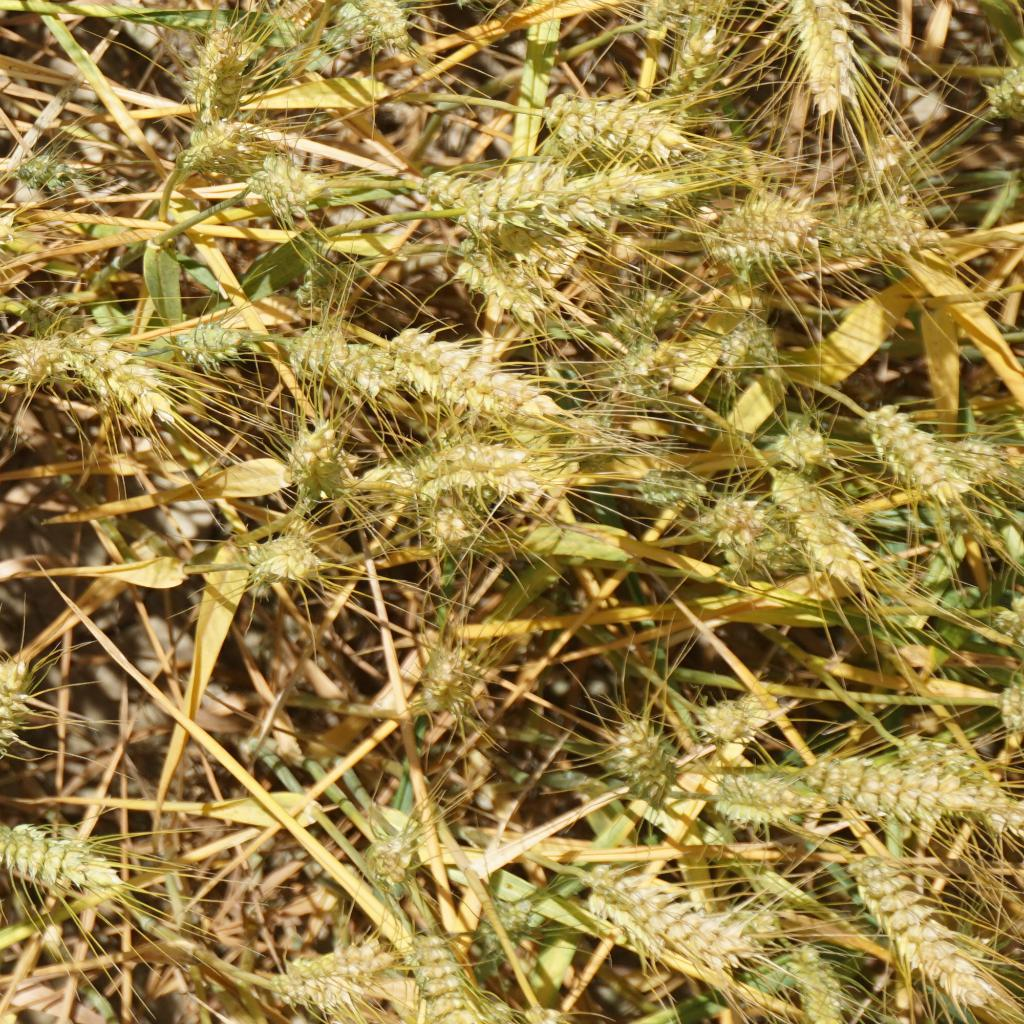0-0: (855, 850, 1009, 1004), (393, 329, 567, 429), (605, 875, 780, 965), (701, 506, 863, 593), (0, 817, 135, 915), (462, 153, 667, 217), (417, 235, 553, 323), (540, 81, 680, 161), (246, 929, 385, 1006), (769, 474, 859, 575), (283, 322, 400, 398), (876, 400, 956, 504), (709, 179, 811, 259), (813, 191, 933, 256), (400, 937, 482, 1024), (820, 755, 947, 811), (82, 334, 164, 415), (796, 0, 865, 96), (611, 710, 683, 802), (552, 404, 639, 478), (706, 768, 809, 825), (468, 210, 576, 263), (292, 418, 361, 497), (792, 939, 855, 1024), (659, 24, 718, 114), (438, 436, 542, 487), (3, 142, 92, 200), (692, 487, 769, 553), (417, 635, 487, 706), (692, 685, 775, 743), (251, 528, 326, 590), (233, 152, 322, 203), (899, 730, 982, 782), (329, 0, 404, 57), (0, 654, 37, 765), (611, 286, 681, 342), (176, 316, 246, 370), (471, 899, 534, 959), (718, 305, 772, 374), (763, 414, 832, 468), (364, 832, 422, 896), (203, 38, 245, 123), (176, 126, 245, 177), (633, 462, 710, 507), (862, 121, 927, 173), (356, 448, 421, 498), (422, 159, 480, 209), (951, 422, 1003, 477), (287, 257, 343, 308), (606, 346, 653, 403), (421, 501, 473, 550), (4, 342, 67, 380), (30, 296, 78, 345), (0, 192, 22, 273), (236, 0, 296, 25)
